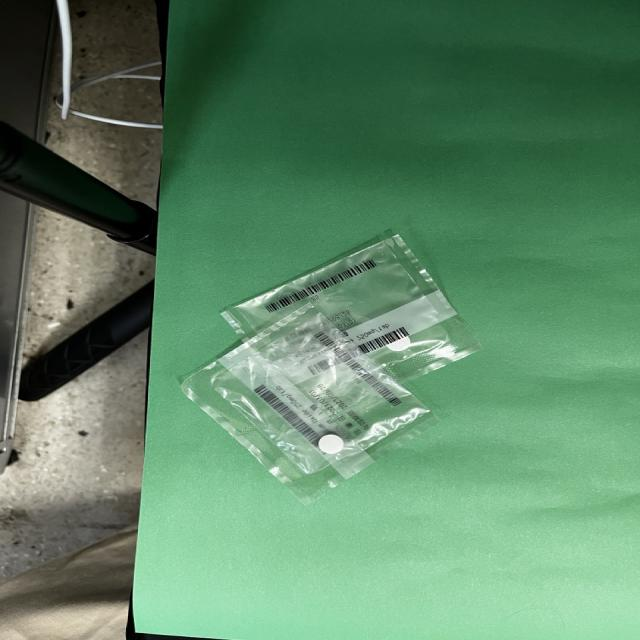Other Objects: (181, 235, 478, 502)
